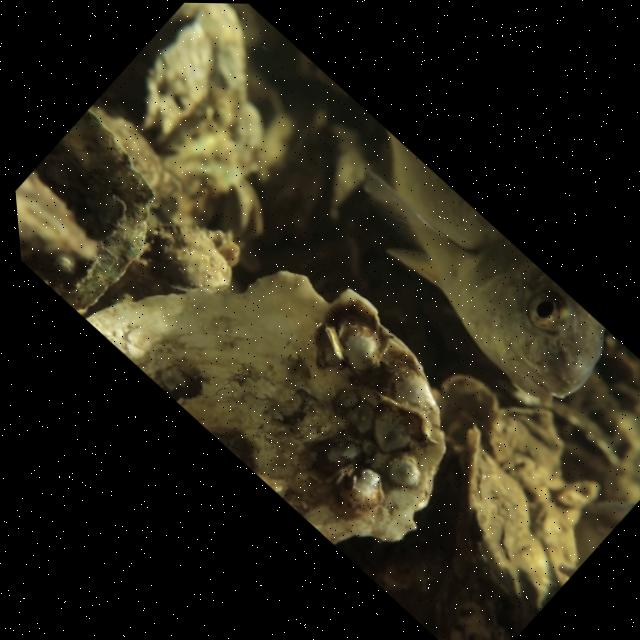Oyster-Closed: (450, 417, 552, 624), (135, 5, 219, 146)
Oyster-Indeterminate: (86, 270, 448, 546), (16, 110, 157, 311), (74, 223, 242, 320)
